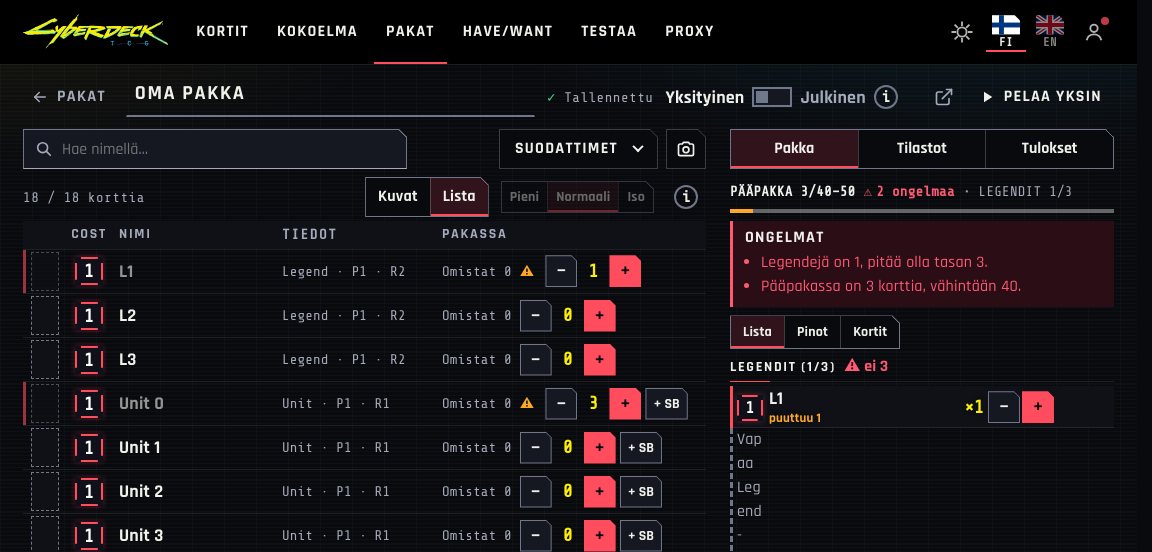
it: visibility in the deck editor › asks first, warns, hides the nickname by default and publishes anonymously (SR-38)
Click the switch named "Julkinen": (772,97) [752,77,792,117]
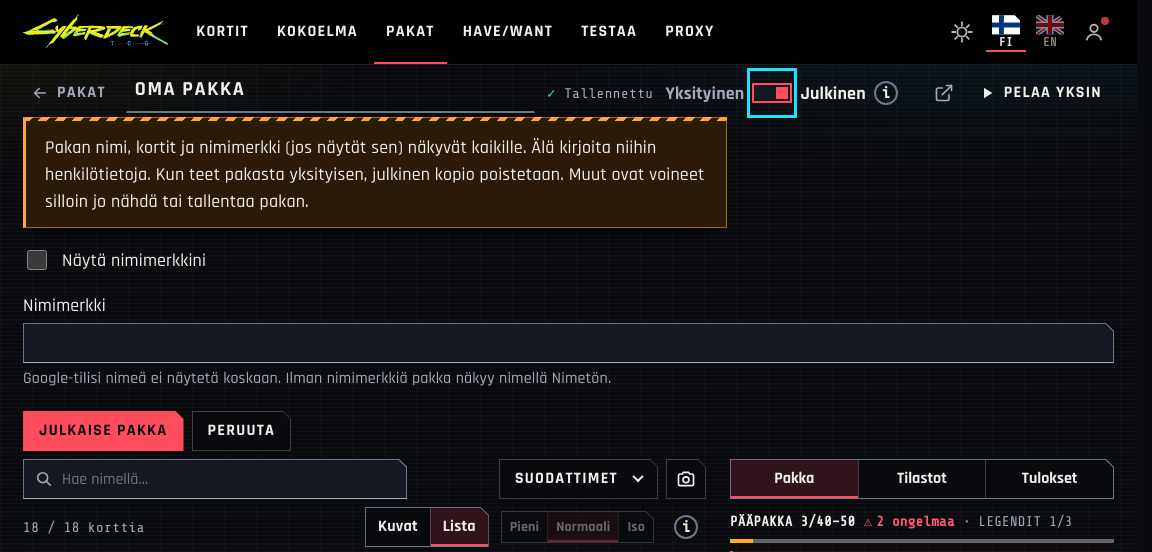
Now the text "näkyvät kaikille" is shown, box [45,136,704,213]
Now the checkbox labelled "Näytä nimimerkkini" is not checked, box [27,250,47,270]
Now the field labelled "Nimimerkki" is empty, box [23,323,1114,363]
Click the button "Julkaise pakka": (103,431) [23,411,184,451]
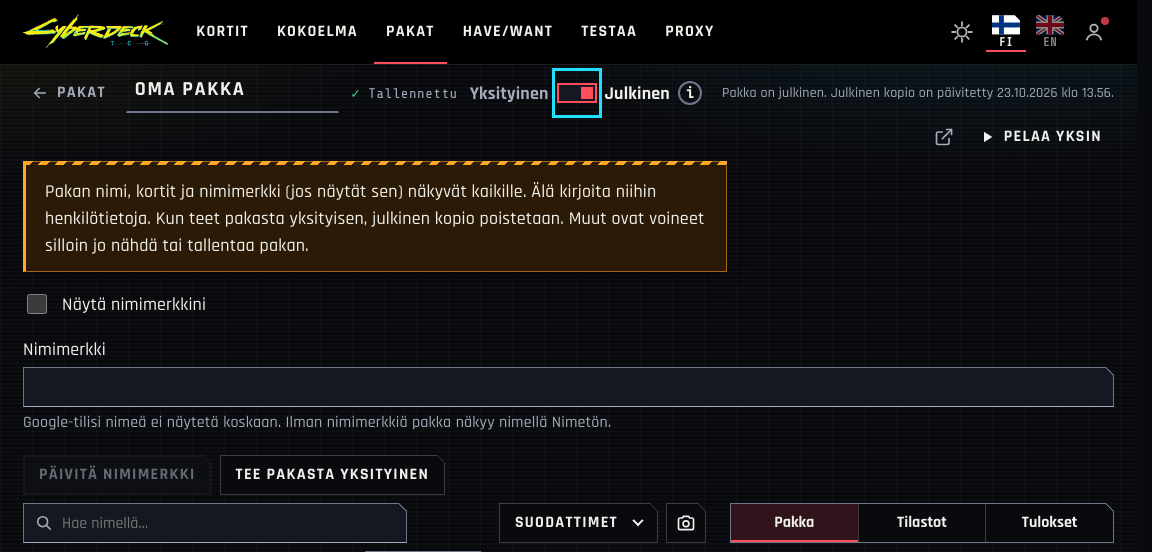
Now the text "Pakka on julkinen" is shown, box [722,84,1114,102]
